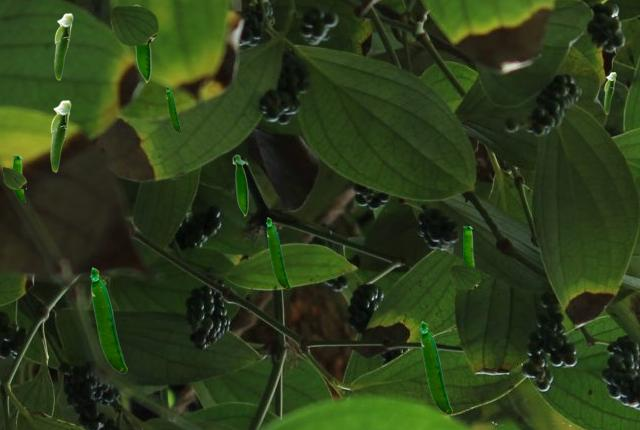pea: (90, 267, 126, 372), (420, 321, 451, 413), (266, 217, 289, 288), (50, 100, 70, 171), (133, 4, 150, 83), (54, 13, 72, 79), (232, 154, 247, 216), (166, 86, 180, 131), (13, 156, 24, 201), (463, 226, 475, 266), (604, 72, 615, 113)
